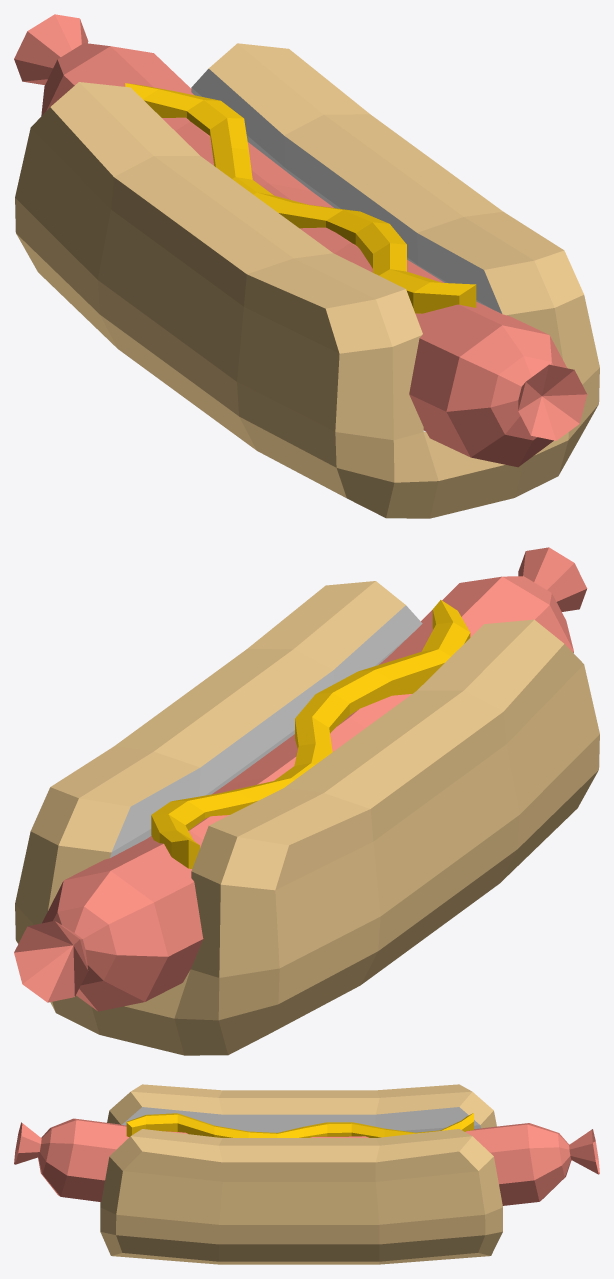
The model's file is Hot_dog_01.gltf.
The picture shows the model from 3 angles, top to bottom: view 1: azimuth 30°, elevation 25°; view 2: azimuth 150°, elevation 25°; view 3: azimuth 270°, elevation 25°; orthographic projection. The views are drawn at different scales.
Parts seen in each view (by area): view 1: node-0; view 2: node-0; view 3: node-0.
Boxes of the visible parts, x1,y1,x2,y2 form: node-0: [14, 14, 599, 518]; node-0: [14, 547, 599, 1055]; node-0: [14, 1084, 599, 1264].
Size of the model in its own units: 12.08 by 9.37 by 37.64.
